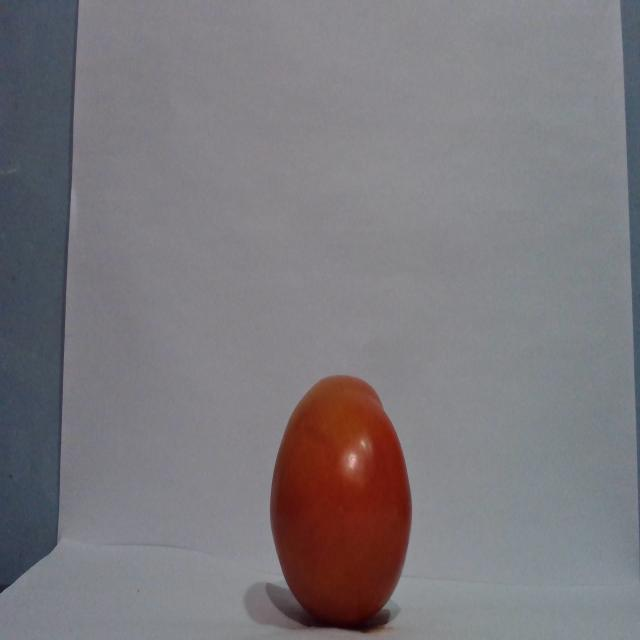Red: (267, 373, 413, 627)
